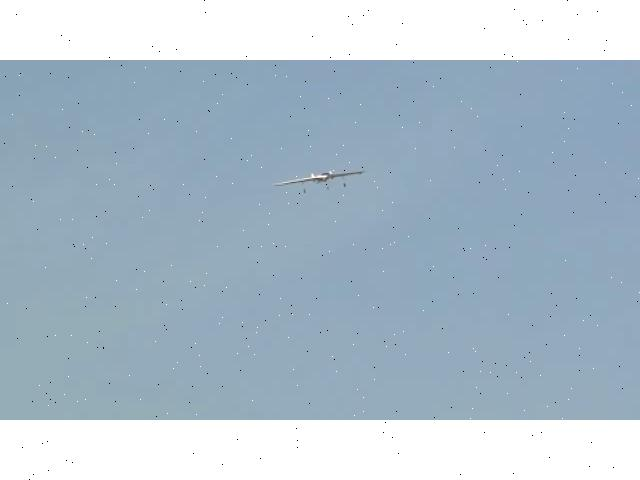Anti-Drone: (275, 170, 365, 186)
